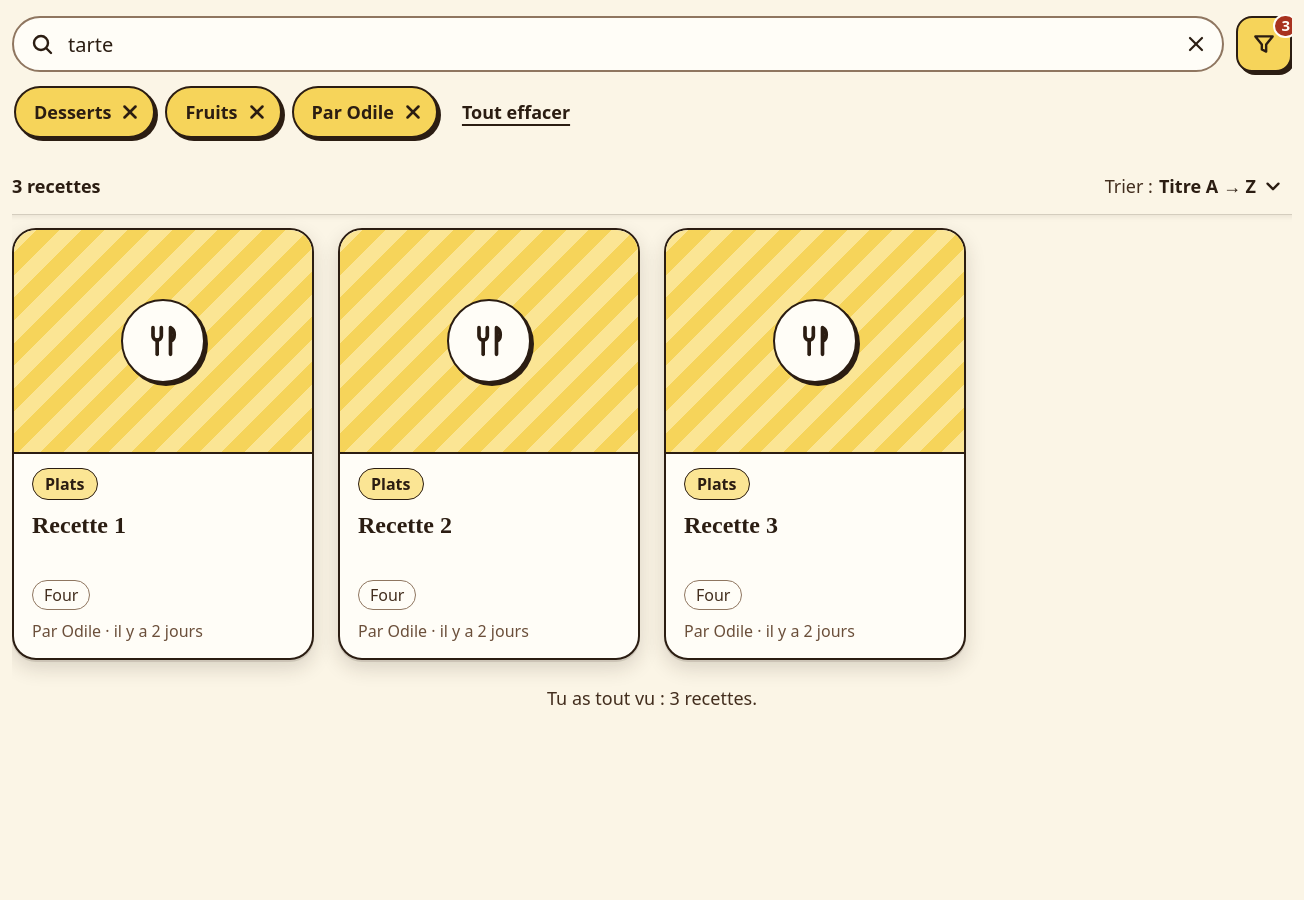
Test case: SearchScreen on a phone › the filters in force › are all dropped by « Tout effacer », which shows from two filters, and the text stays
What coordinates should you click on to do the following:
click the button "Tout effacer"
I would click on:
 (516, 112)
Its box is [448, 84, 584, 140].
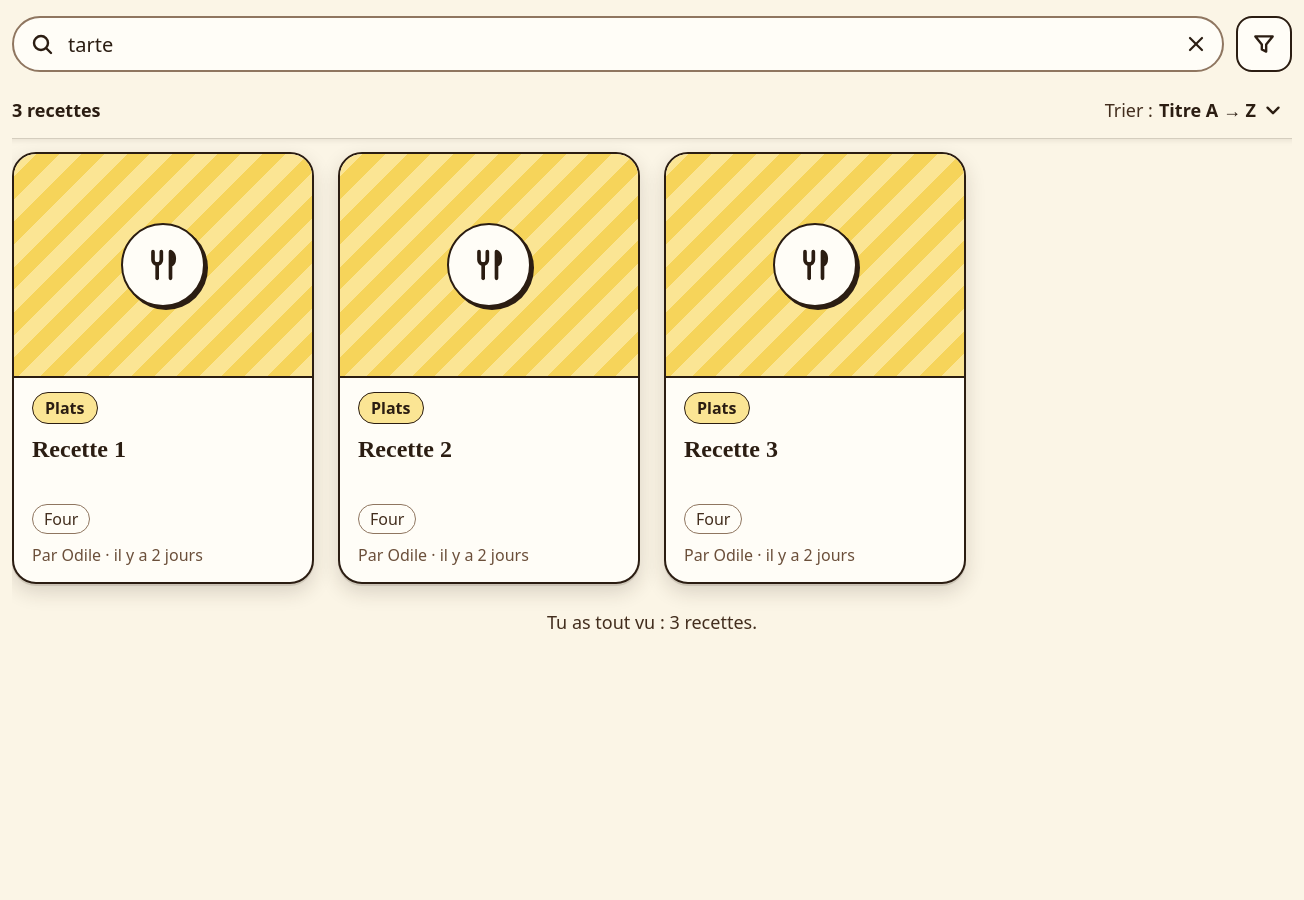
Expected: the search field named "Chercher une recette" holds "tarte", [12, 16, 1224, 72]
Expected: the button "Tout effacer" is gone
